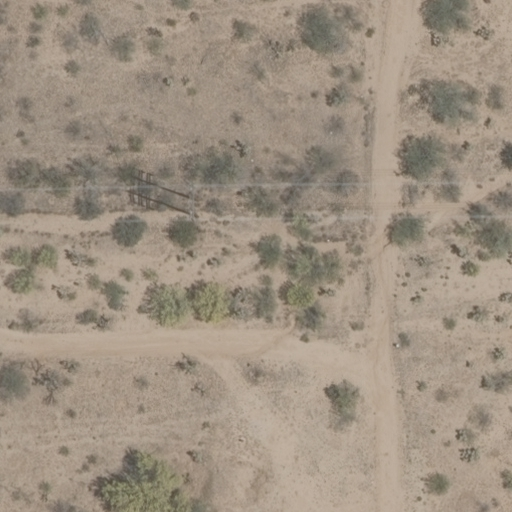TT: (124, 173, 198, 216)
